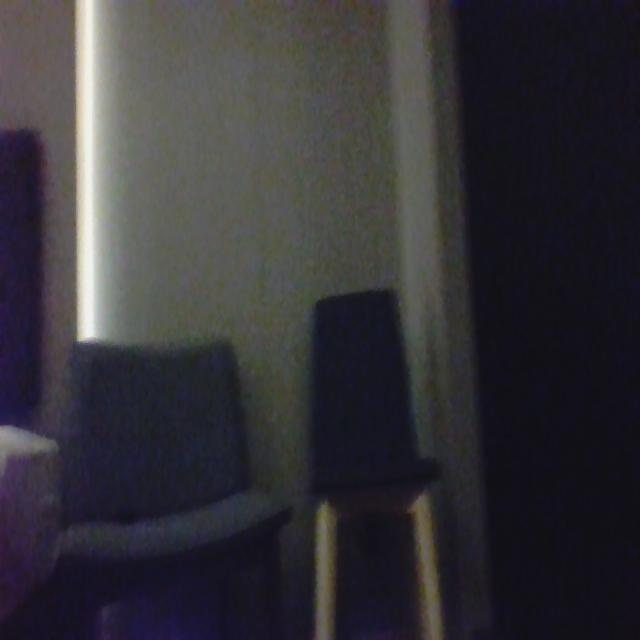empty: (56, 353, 263, 546), (308, 280, 414, 490)
